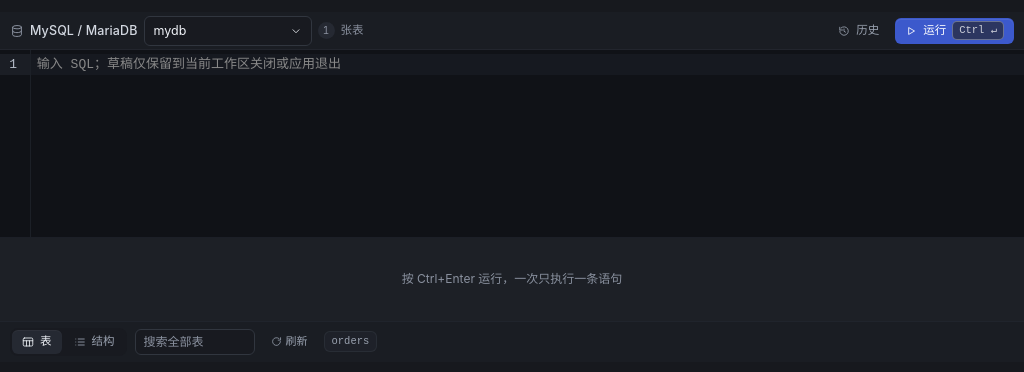
Test: DbPanel SQL regressions › MySQL chips use the current database and escape the full identifier
Click the button "mydb".
click(228, 30)  # box 144,16 -> 312,46
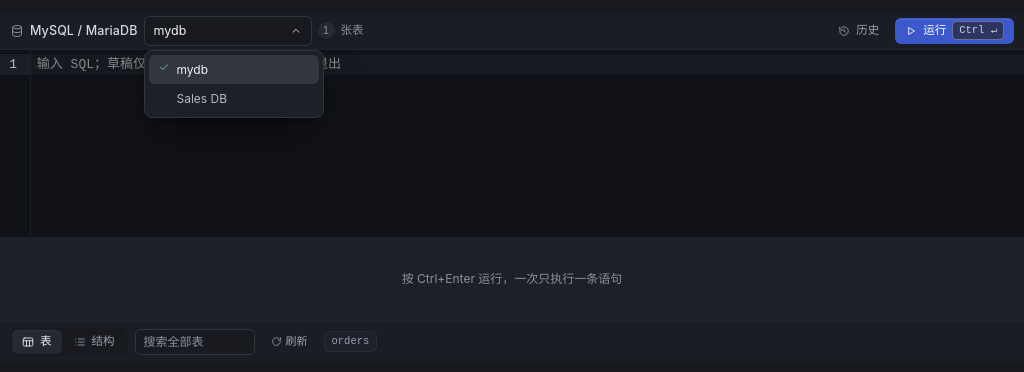
Click the option "Sales DB".
click(202, 98)  # box 176,91 -> 227,106
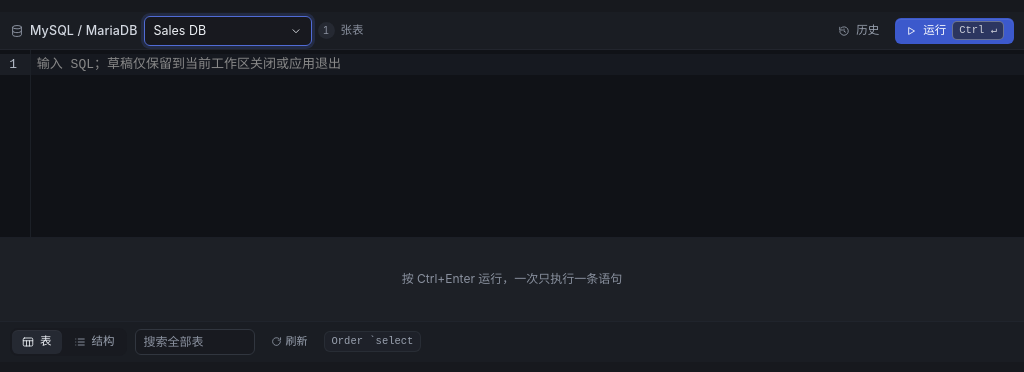
Click the button "Order `select".
click(372, 342)  # box 324,331 -> 421,352
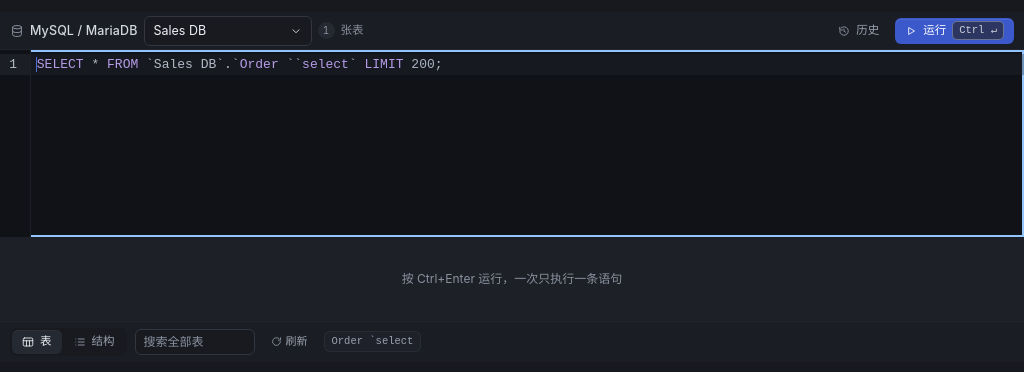
Now the text box labelled "SELECT * FROM `Sales DB`.`Order ``select` LIMIT 200;" is shown, box 31,54 -> 1023,75
